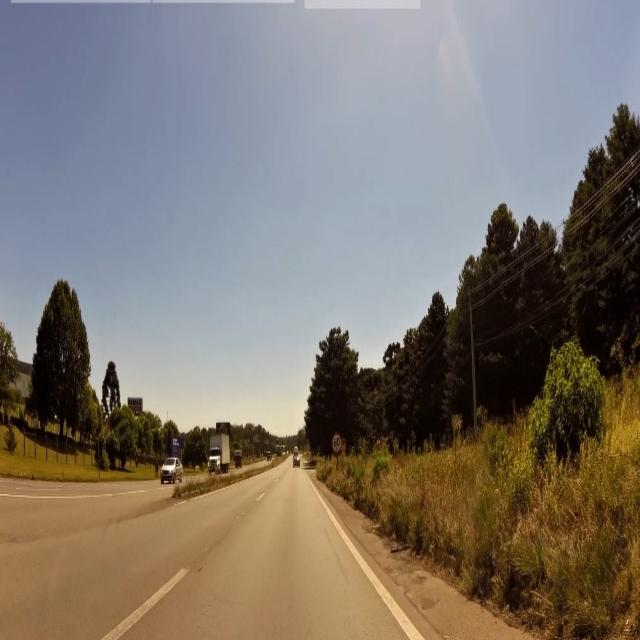R-19: (332, 433, 341, 454)
